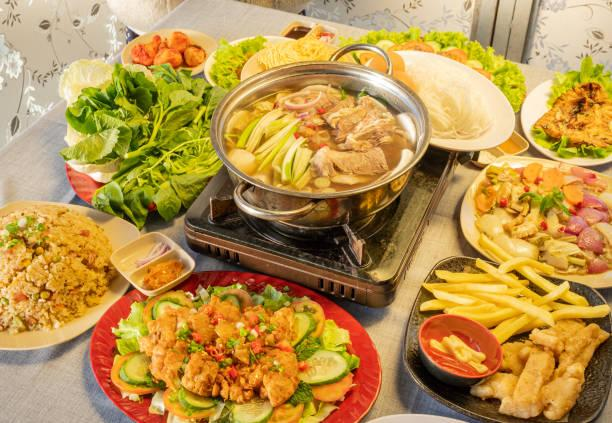Braised Crucian Carp: (91, 270, 377, 421), (206, 52, 429, 240), (402, 256, 612, 420), (2, 199, 138, 348), (459, 156, 612, 285), (520, 77, 612, 166)
